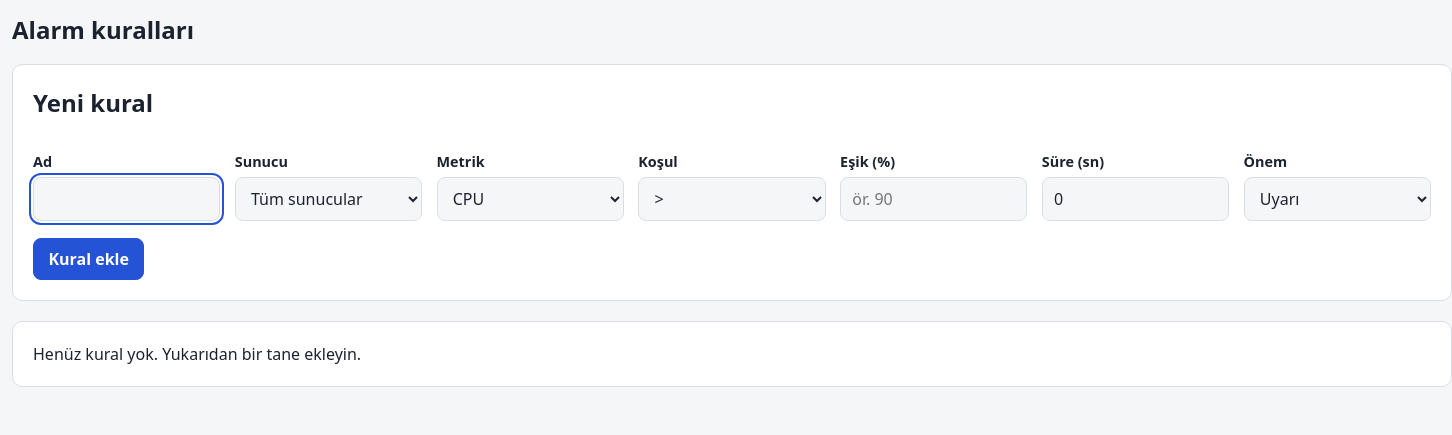
Test: RulesPage › form: başarılı ekleme sonrası temizlenir ve liste yenilenir
Expected: the text "Henüz kural yok. Yukarıdan bir tane ekleyin." is shown, [12,321,1451,387]
Step 1. Type "Yeni kural" into the field labelled "Ad" → (127, 199), box [33,177,220,220]
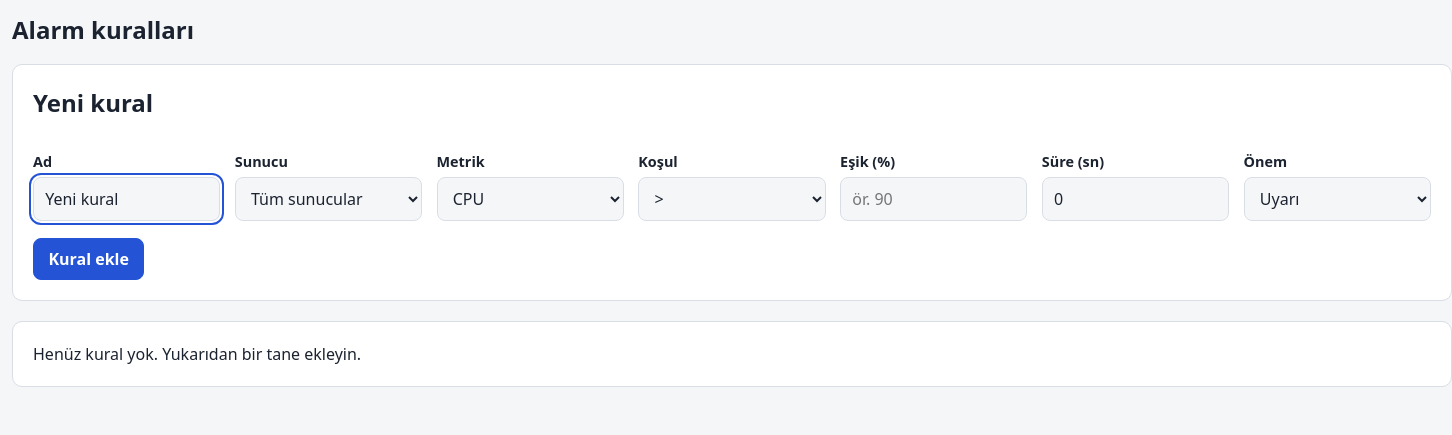
Step 2. Select "web-01" in the dropdown labelled "Sunucu" → (328, 199), box [235,177,422,220]
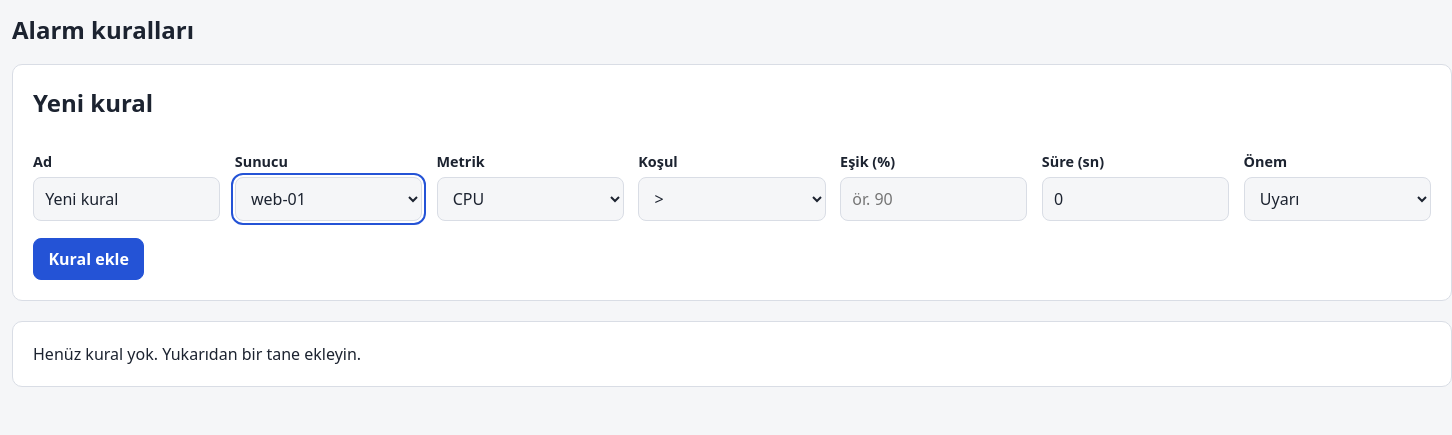
Step 3. Type "80" into the field labelled "Eşik (%)" → (934, 199), box [840,177,1028,220]
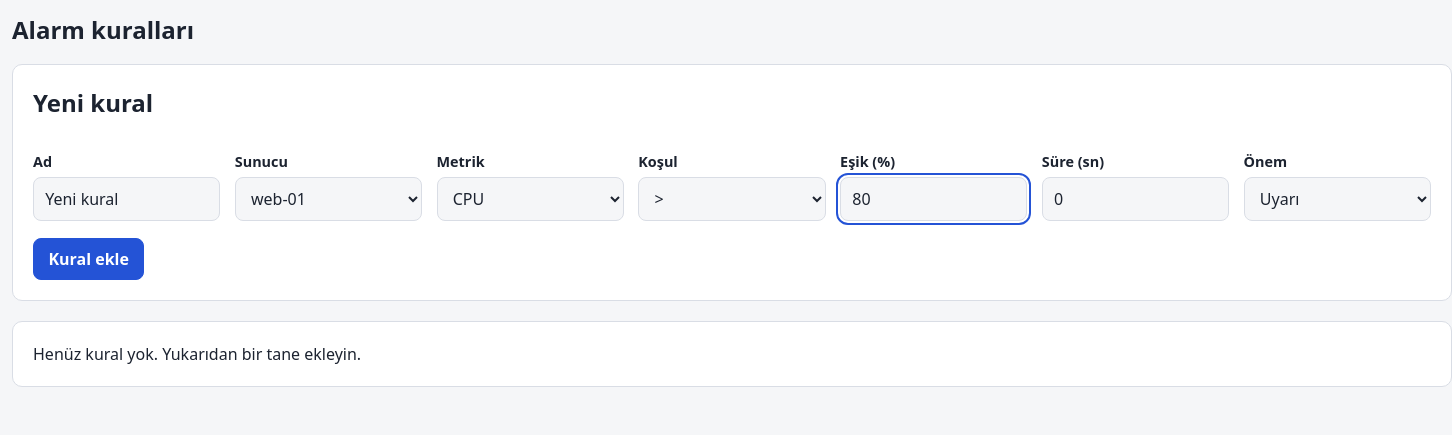
Step 4. Click the button "Kural ekle" → click(89, 259), box [33,238,144,280]
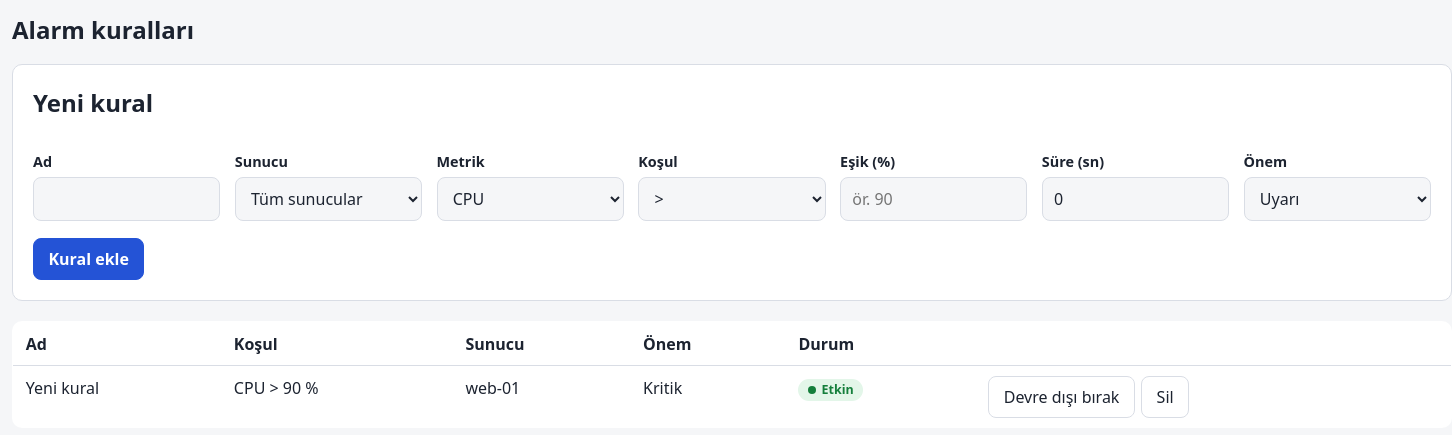
Result: the field labelled "Ad" is empty at [33,177,220,220]
Result: the row with test id "rule-row" shows "Yeni kural" at [26,377,99,399]
